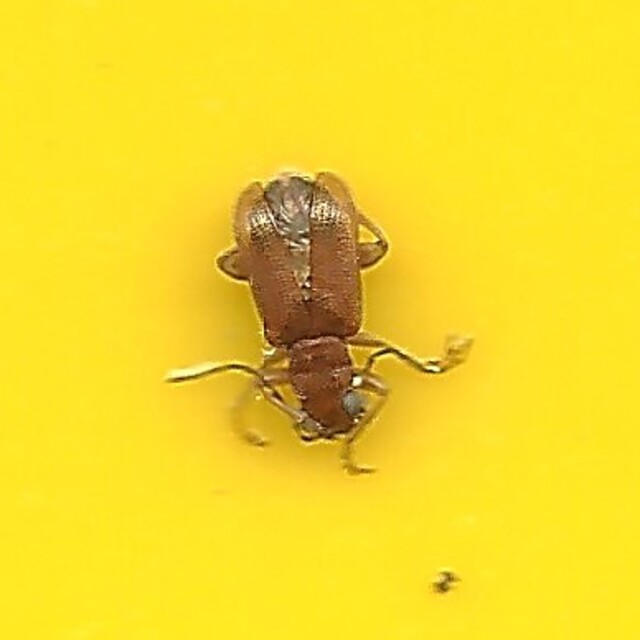Coleoptera: (165, 165, 475, 475)
